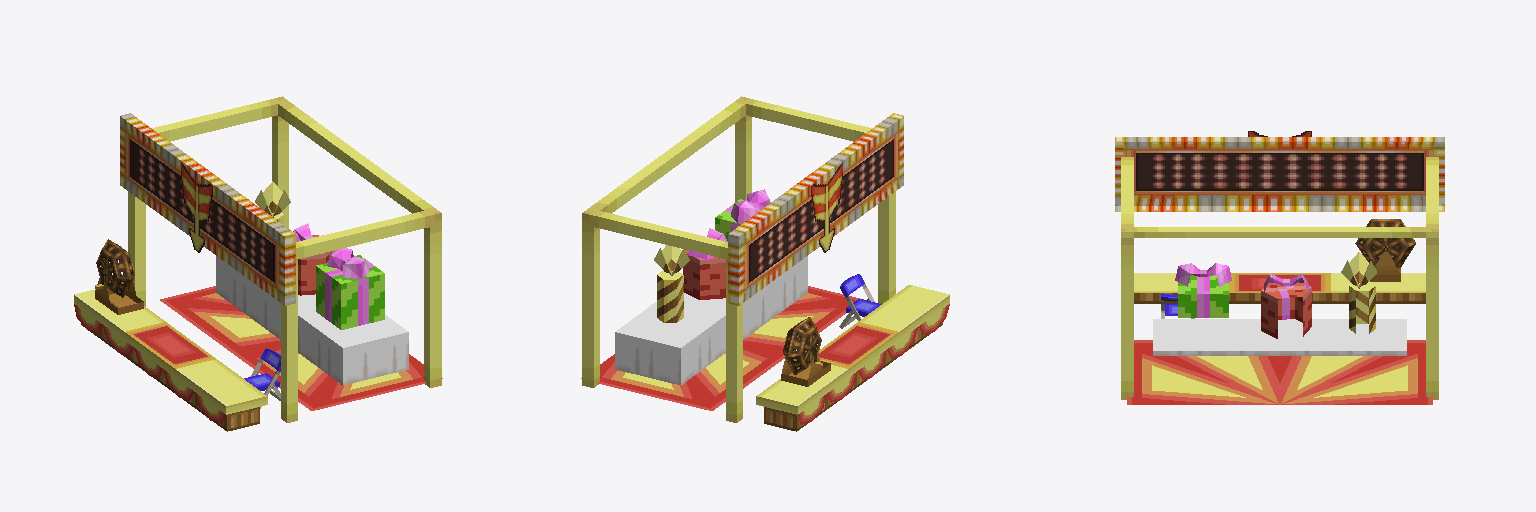
The picture shows the model from 3 angles: view 1: azimuth 30°, elevation 25°; view 2: azimuth 150°, elevation 25°; view 3: azimuth 270°, elevation 25°; orthographic projection.
Visible parts, largest first — view 1: polygon0, polygon2; view 2: polygon0, polygon2; view 3: polygon0, polygon2.
Part boxes in pixels (x1,y1,x2,y2): polygon0: (74,96,442,431); polygon2: (120,113,295,305); polygon0: (581,96,949,431); polygon2: (728,113,903,305); polygon0: (1121,131,1438,404); polygon2: (1115,137,1444,211).
Size of the model in its own units: 5.06 by 4.23 by 6.5.
Materials: 3 (3 with a texture image).